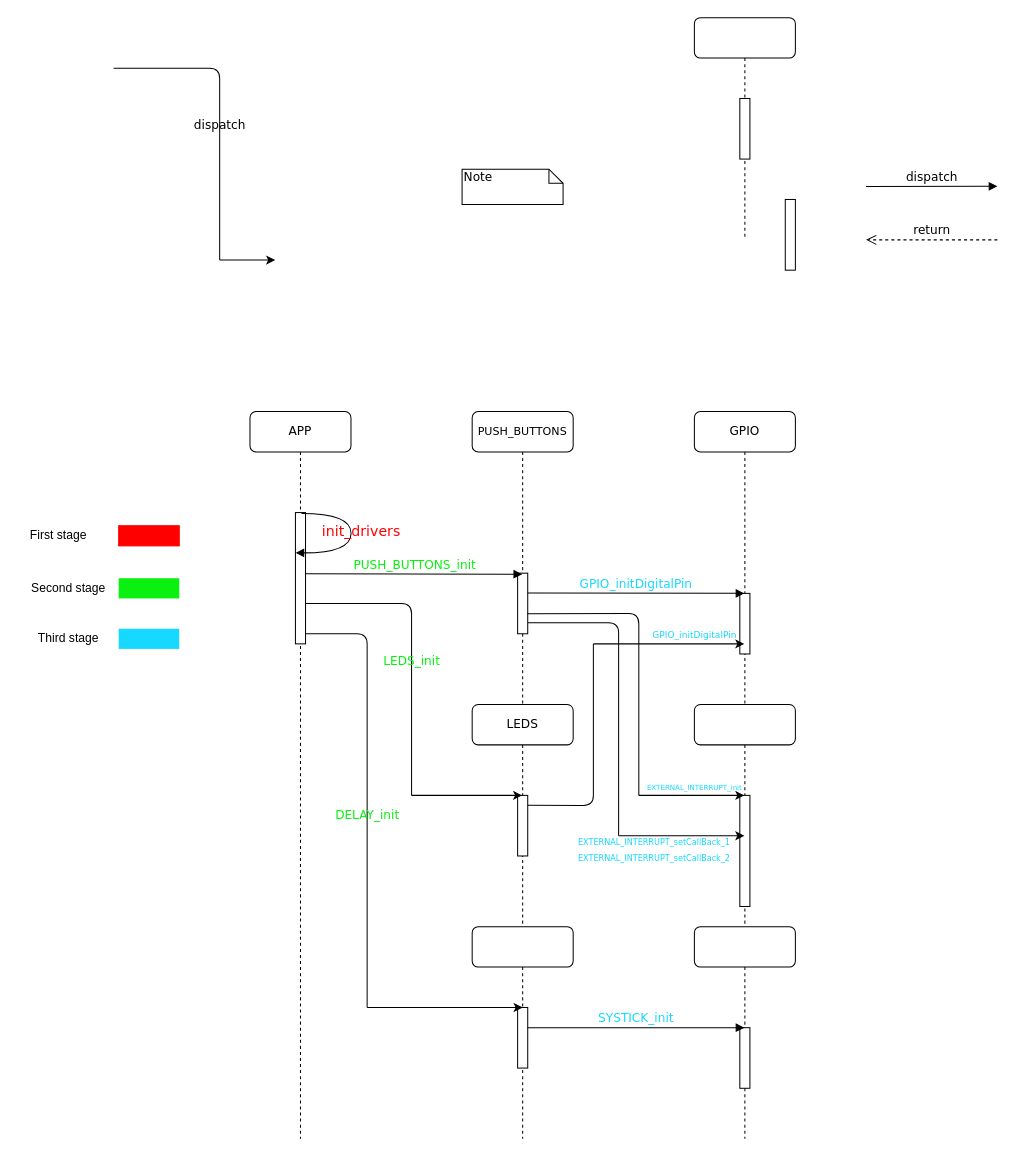
This 1025x1156 diagram has some shape labels left out. The box of each missing label's shape, as (x1, y1, x2, y2) in pixels:
DELAY: (471, 926, 573, 1139)
EXTERNAL INTERRUPTS: (693, 703, 795, 927)
SYSTICK_TIMER: (693, 926, 795, 1139)
